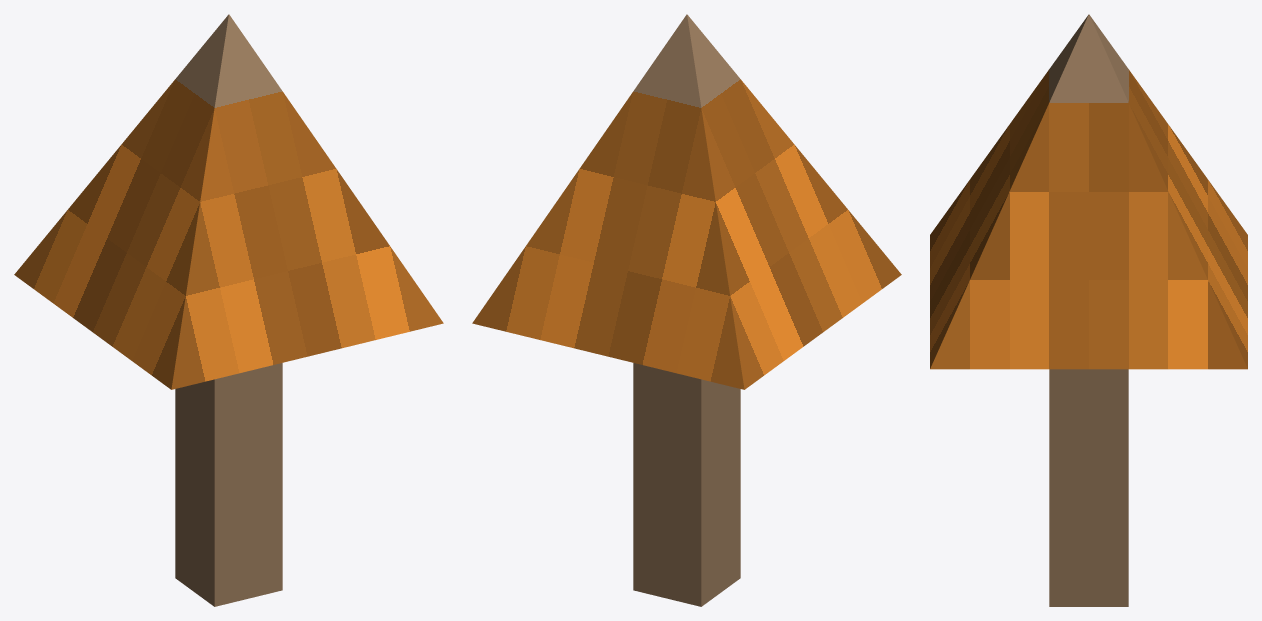
The model's file is orange_umbrella_close_3d.obj.
3 renders of one model, left to right at view 1: azimuth 30°, elevation 25°; view 2: azimuth 150°, elevation 25°; view 3: azimuth 270°, elevation 25°, orthographic.
Visible parts, largest first — view 1: Cube; view 2: Cube; view 3: Cube.
Boxes of the visible parts, x1,y1,x2,y2 form: Cube: (14, 14, 443, 606); Cube: (472, 14, 901, 606); Cube: (930, 14, 1247, 606).
Size of the model in its own units: 0.5 by 1 by 0.5.
